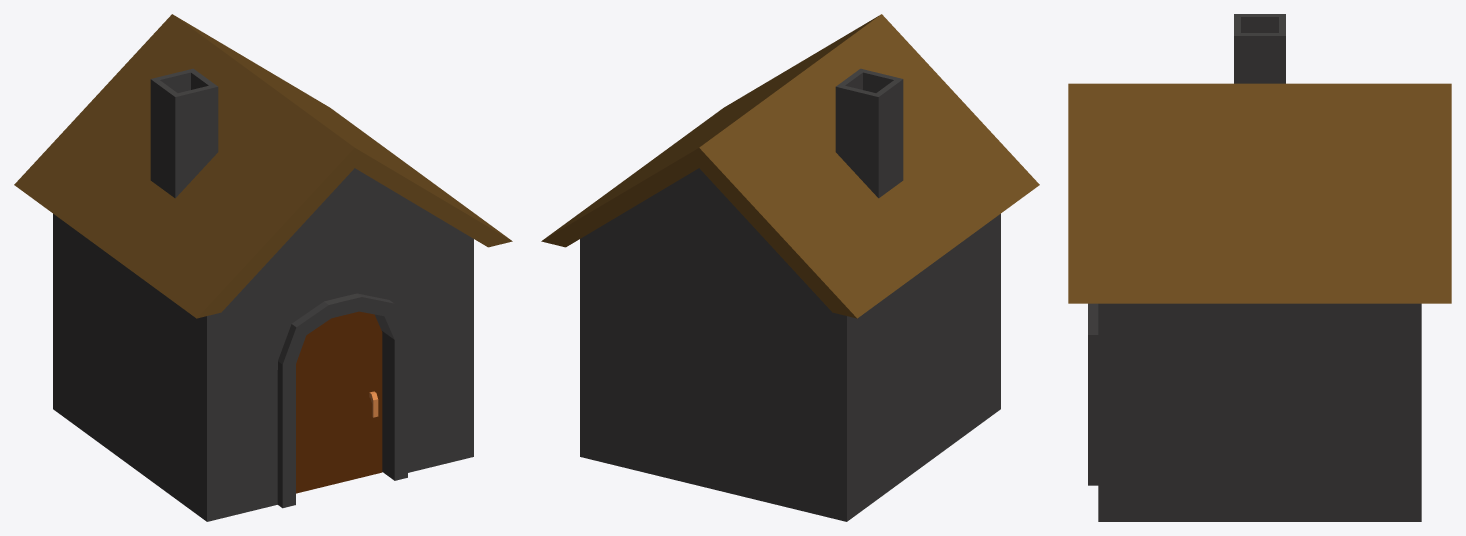
File: House.glb
3 renders of one model, left to right at view 1: azimuth 30°, elevation 25°; view 2: azimuth 150°, elevation 25°; view 3: azimuth 270°, elevation 25°, orthographic. The views are drawn at different scales.
Parts seen in each view (by area): view 1: House, Door; view 2: House; view 3: House.
Boxes of the visible parts, x1=… form: House: x1=14, y1=14, x2=512, y2=521; Door: x1=296, y1=311, x2=382, y2=493; House: x1=541, y1=14, x2=1039, y2=521; House: x1=1068, y1=14, x2=1451, y2=521.
Size of the model in its own units: 4.07 by 4.55 by 4.07.
